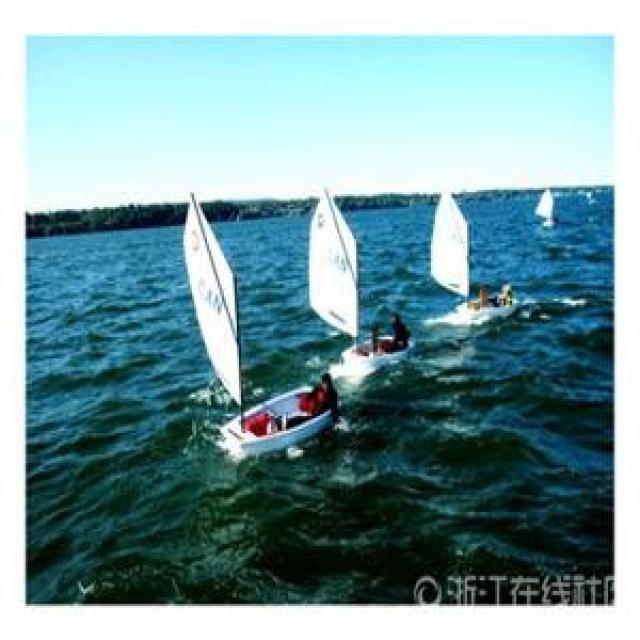sailboat: (132, 202, 339, 446), (260, 179, 398, 433), (419, 168, 508, 338), (516, 180, 586, 274)
